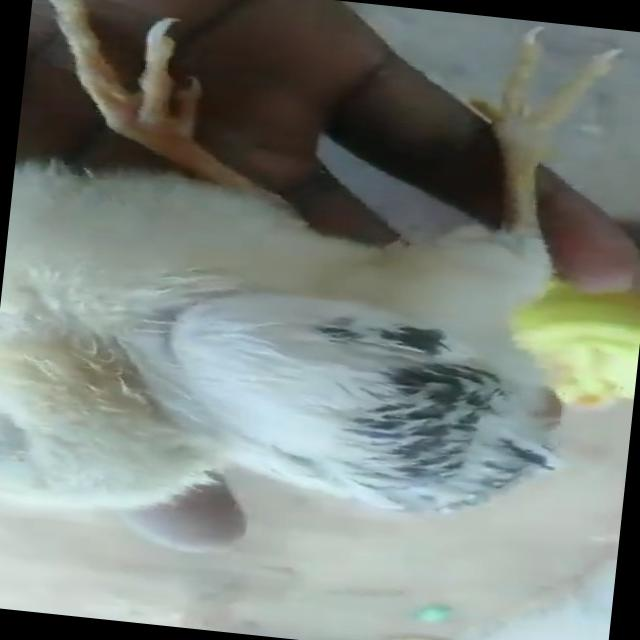newcastle: (0, 0, 640, 574)
